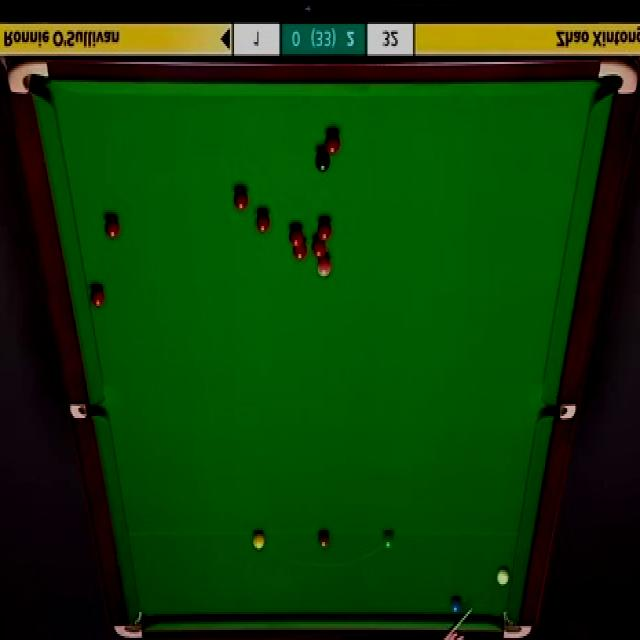pocket: (595, 60, 637, 97), (6, 63, 48, 95), (500, 609, 534, 640), (112, 608, 144, 640), (538, 400, 580, 422), (68, 403, 106, 419)
